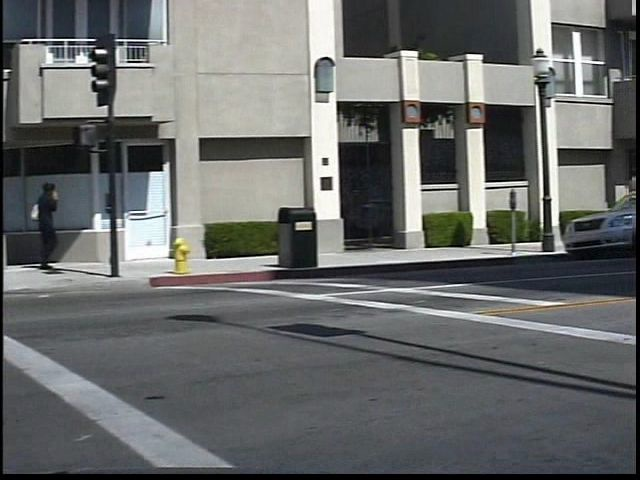person: (36, 176, 83, 276)
